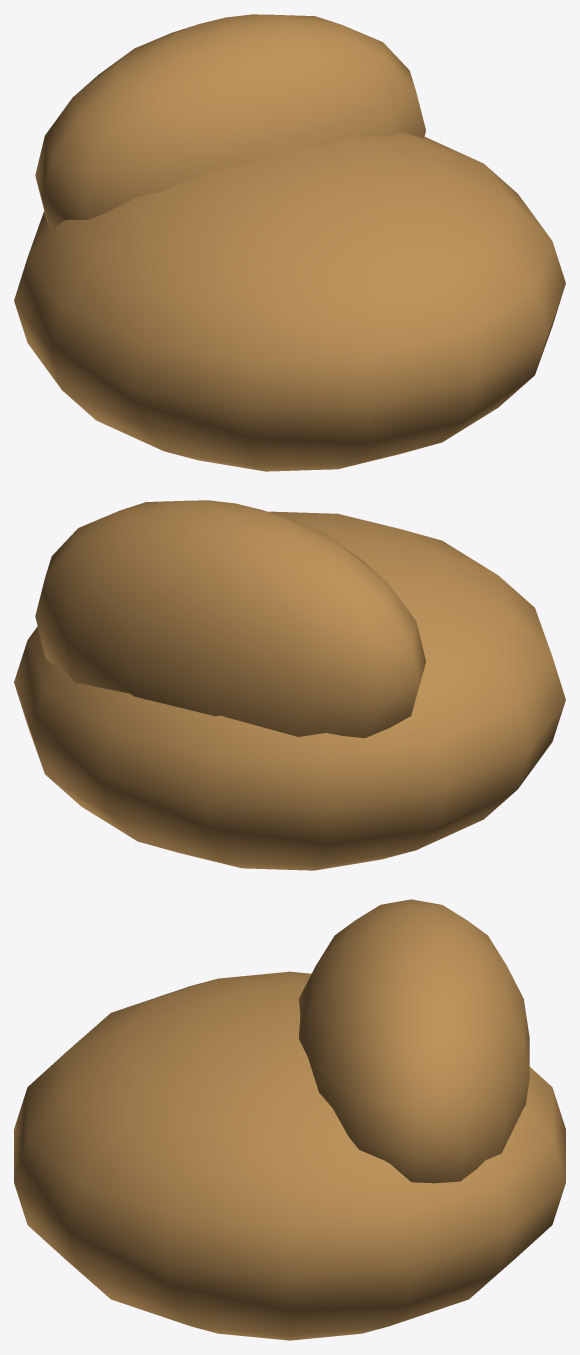
File: puff.glb
3 views of the same model, one above another, from view 1: azimuth 30°, elevation 25°; view 2: azimuth 150°, elevation 25°; view 3: azimuth 270°, elevation 25° (orthographic). The views are drawn at different scales.
Parts seen in each view (by area): view 1: puff_malha; view 2: puff_malha; view 3: puff_malha.
Part boxes in pixels (bbox=[...]): puff_malha: bbox=[14, 14, 565, 471]; puff_malha: bbox=[14, 500, 565, 870]; puff_malha: bbox=[14, 899, 565, 1340].
Size of the model in its own units: 0.84 by 0.601 by 0.8189.
